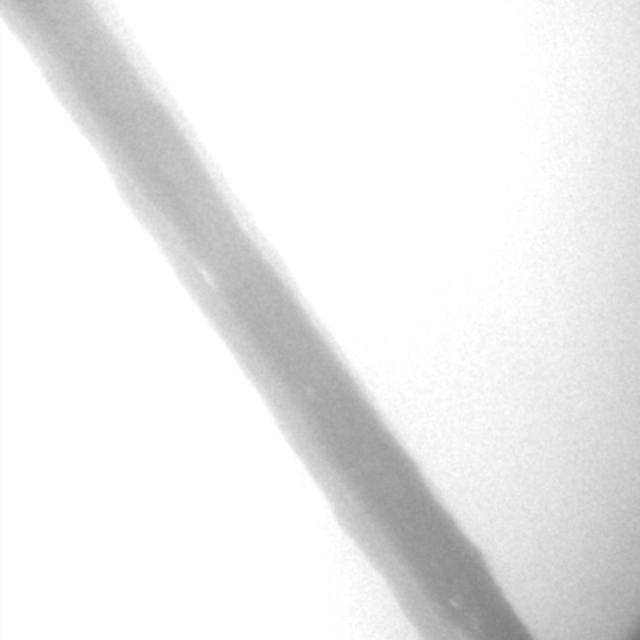air hole: (193, 260, 212, 287), (448, 597, 458, 609)
